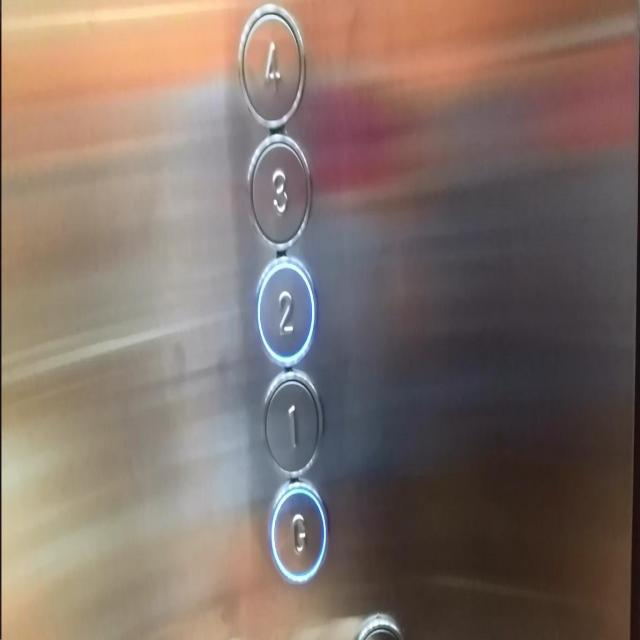1: (262, 369, 323, 477)
2: (254, 254, 317, 367)
3: (247, 132, 312, 250)
4: (237, 1, 306, 128)
G: (268, 477, 328, 586)
